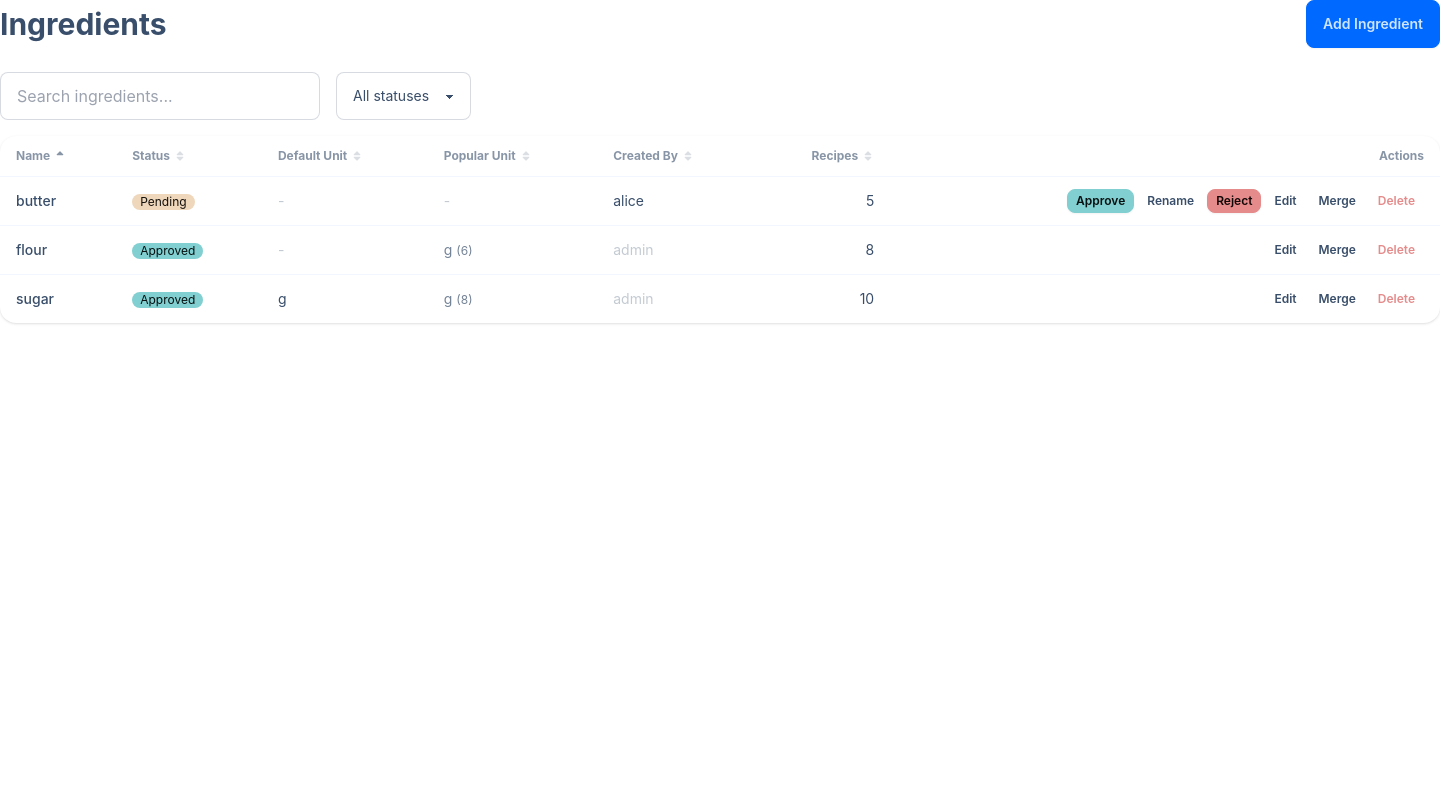
Test case: AdminIngredientsPage › should create a new ingredient
The image size is (1440, 810).
Click the button "Add Ingredient". click: (1373, 24)
box: left=1306, top=0, right=1439, bottom=48
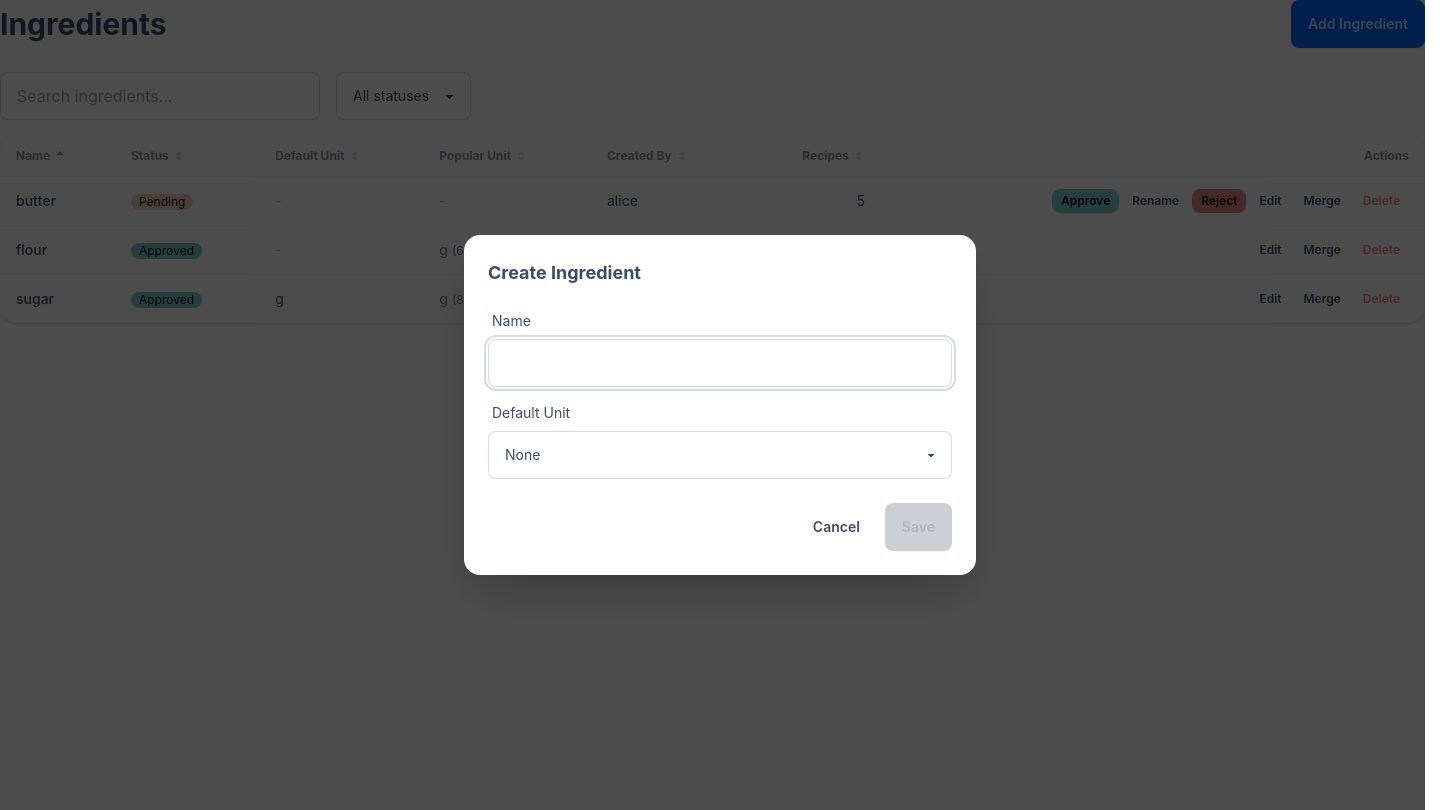
Type "salt" into the field. click: (720, 363)
box: left=488, top=339, right=952, bottom=387
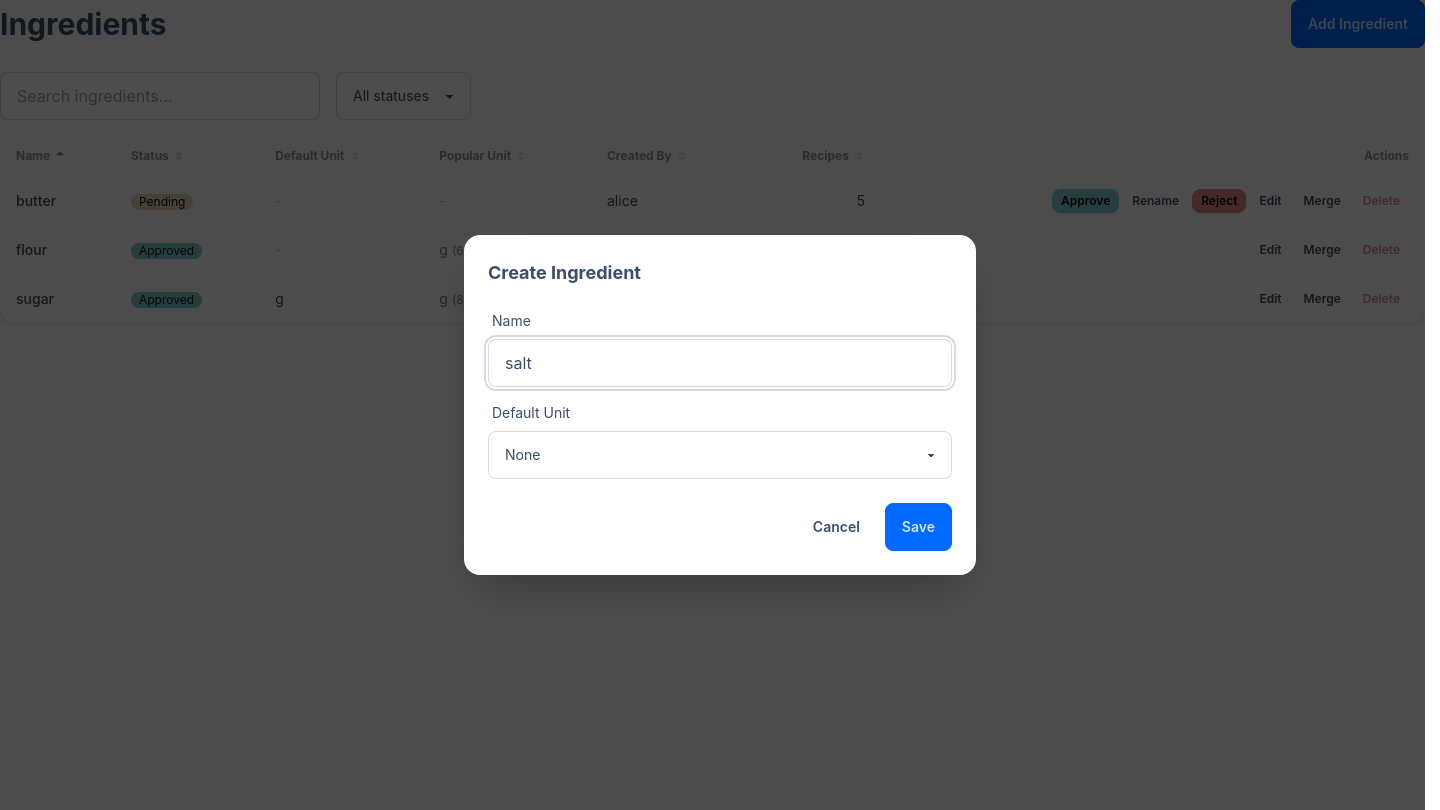
Click the button "Save". click: (918, 527)
box: left=885, top=503, right=952, bottom=551
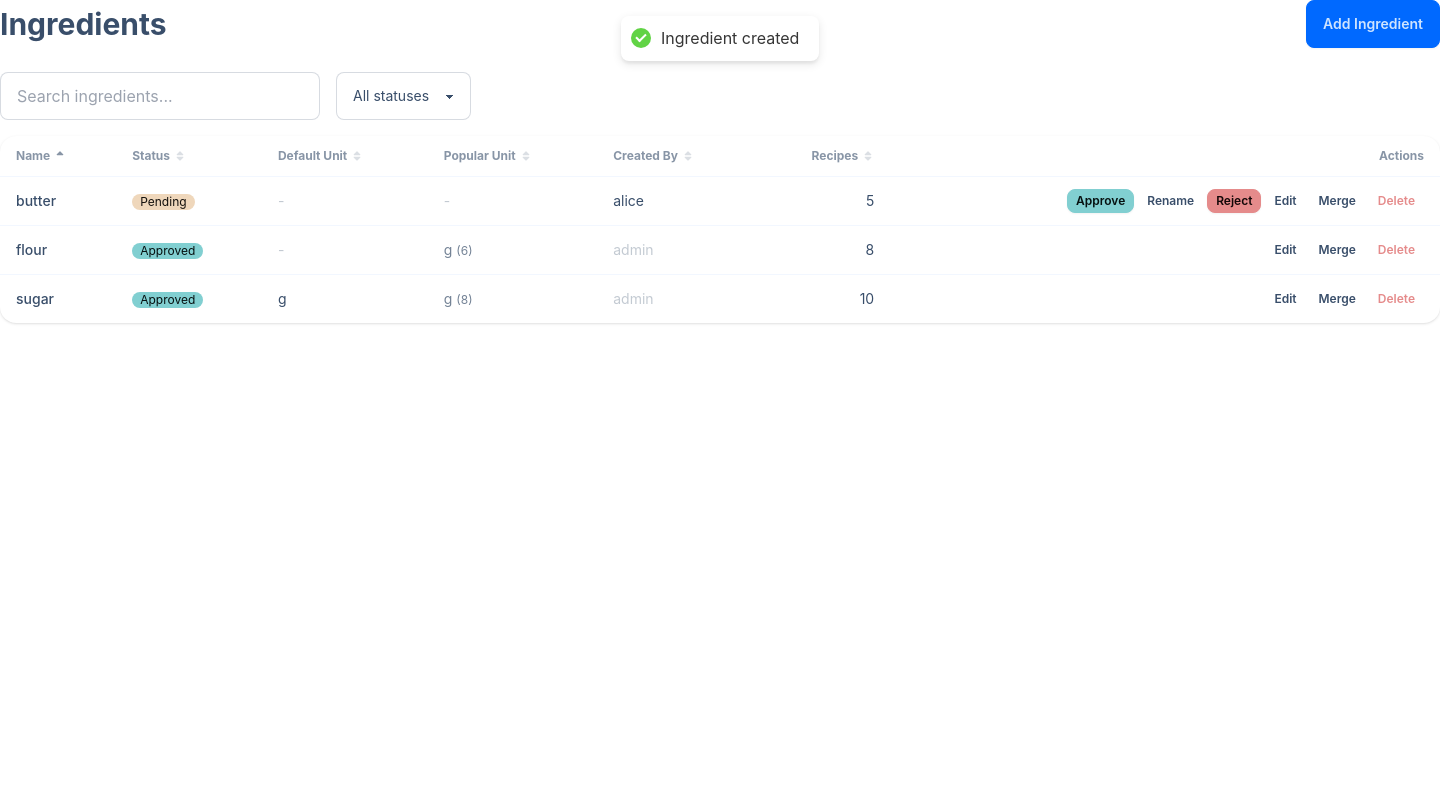
Expected: the text "Ingredient created" is shown, left=661, top=28, right=799, bottom=49
